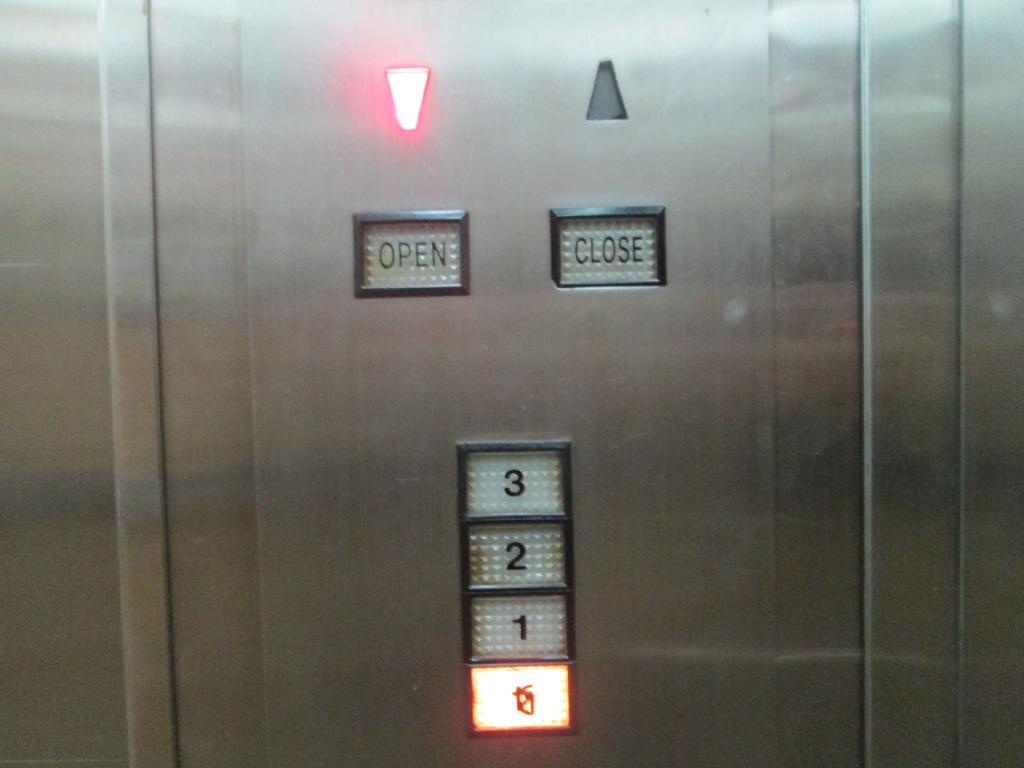1: (457, 583, 579, 672)
2: (452, 511, 578, 599)
3: (451, 435, 578, 527)
text_close: (546, 198, 672, 294)
text_open: (344, 203, 478, 304)
unknown: (459, 654, 582, 741)
